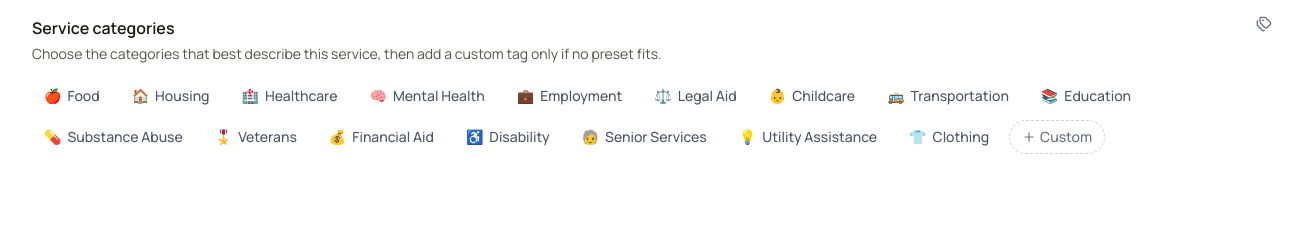
Test: CategoryPicker › toggles preset categories and updates the selected summary
Expected: the checkbox "Housing" is shown, top-left (120, 80), bottom-right (222, 112)
Click the checkbox "Food": point(72, 96) top-left (32, 80), bottom-right (112, 112)
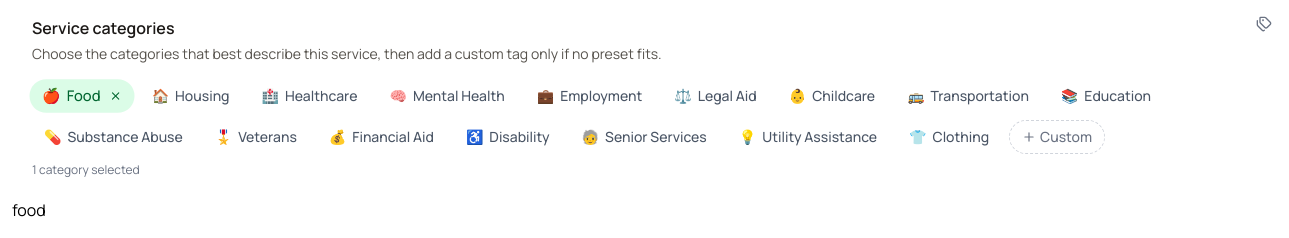
Now the text with test id "selected" reads "food", box top-left (12, 199), bottom-right (46, 221)
Now the text "1 category selected" is shown, box top-left (32, 161), bottom-right (140, 178)
Click the checkbox "Housing": point(191, 96) top-left (140, 80), bottom-right (242, 112)
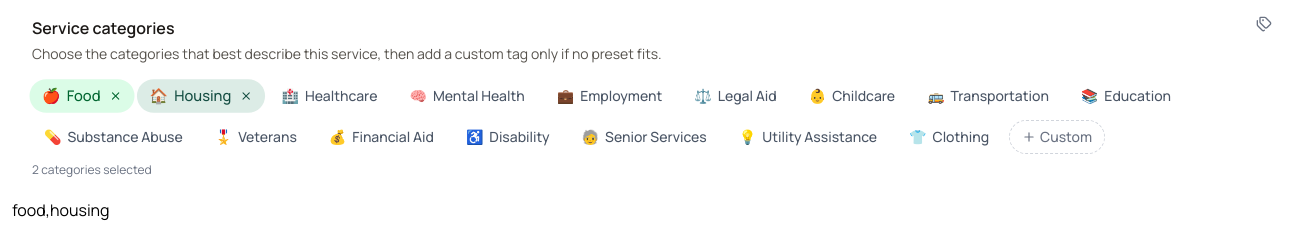
Now the text with test id "selected" reads "food,housing", box top-left (12, 199), bottom-right (110, 221)
Now the text "2 categories selected" is shown, box top-left (32, 161), bottom-right (152, 178)
Click the checkbox "Food": point(82, 96) top-left (30, 79), bottom-right (134, 113)
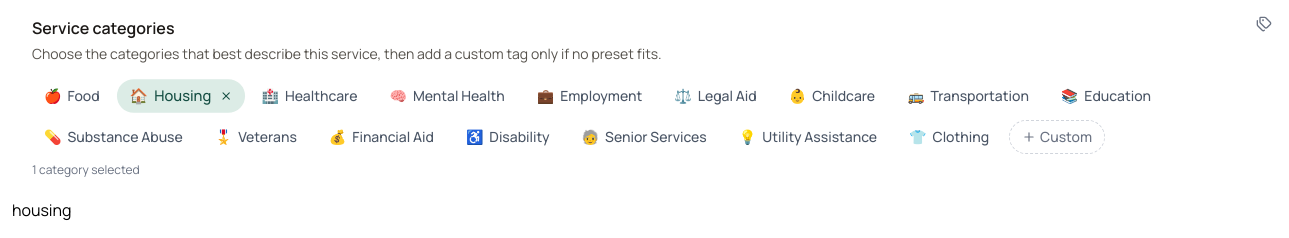
Now the text with test id "selected" reads "housing", box top-left (12, 199), bottom-right (72, 221)
Now the text "1 category selected" is shown, box top-left (32, 161), bottom-right (140, 178)
